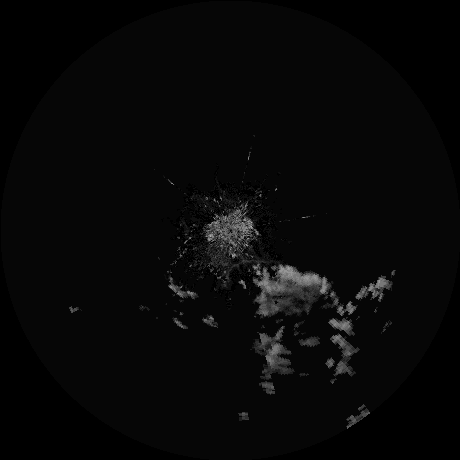frontgust: (224, 258, 273, 284)
